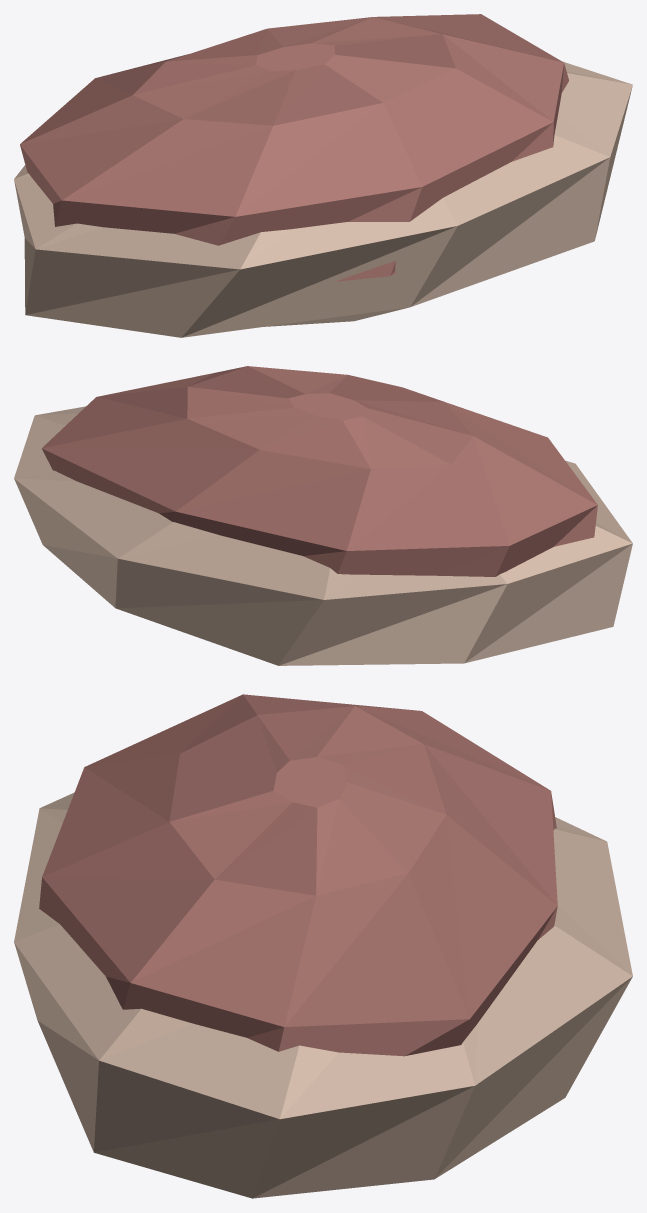
File: raw-meat.glb
3 views of the same model, one above another, from view 1: azimuth 30°, elevation 25°; view 2: azimuth 150°, elevation 25°; view 3: azimuth 270°, elevation 25° (orthographic). The views are drawn at different scales.
Parts seen in each view (by area): view 1: raw-meat; view 2: raw-meat; view 3: raw-meat.
Part boxes in pixels (box(x1,y1,x2,y2)): raw-meat: box(14, 14, 632, 337); raw-meat: box(14, 366, 632, 665); raw-meat: box(14, 694, 632, 1198).
Bounding box in the file's own units: 0.4343 × 0.145 × 0.2866.
